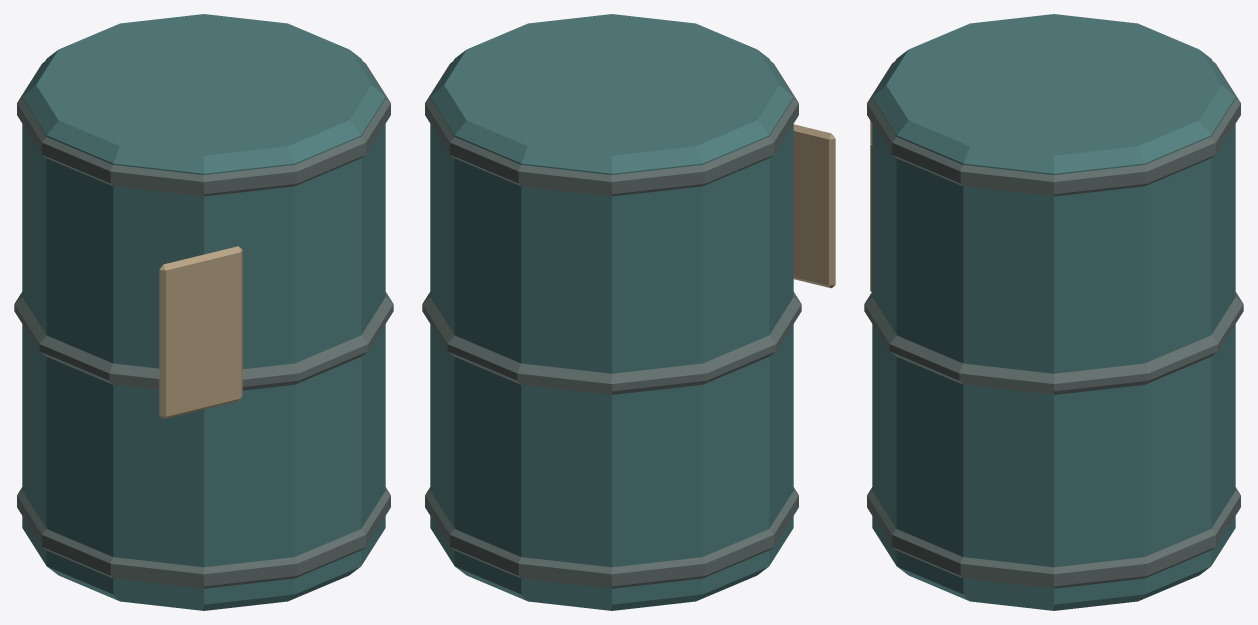
The model's file is ENV_Barrel.glb.
3 renders of one model, left to right at view 1: azimuth 30°, elevation 25°; view 2: azimuth 150°, elevation 25°; view 3: azimuth 270°, elevation 25°, orthographic.
Parts seen in each view (by area): view 1: Barrel_Body, Barrel_Wear, Barrel_TopRim, Barrel_BottomRim, Barrel_MidRim; view 2: Barrel_Body, Barrel_TopRim, Barrel_MidRim, Barrel_BottomRim, Barrel_Wear; view 3: Barrel_Body, Barrel_TopRim, Barrel_MidRim, Barrel_BottomRim.
Boxes of the visible parts, box(x1,y1,x2,y2) form: Barrel_Body: box(22, 14, 385, 610); Barrel_Wear: box(159, 246, 242, 419); Barrel_TopRim: box(17, 61, 390, 196); Barrel_BottomRim: box(17, 487, 390, 588); Barrel_MidRim: box(14, 292, 393, 390); Barrel_Body: box(430, 14, 793, 610); Barrel_TopRim: box(425, 61, 798, 196); Barrel_MidRim: box(422, 292, 801, 394); Barrel_BottomRim: box(425, 487, 798, 588); Barrel_Wear: box(793, 124, 835, 288); Barrel_Body: box(872, 14, 1235, 610); Barrel_TopRim: box(867, 61, 1240, 196); Barrel_MidRim: box(864, 292, 1243, 394); Barrel_BottomRim: box(867, 487, 1240, 588).
Size of the model in its own units: 0.71 by 0.94 by 0.71.
